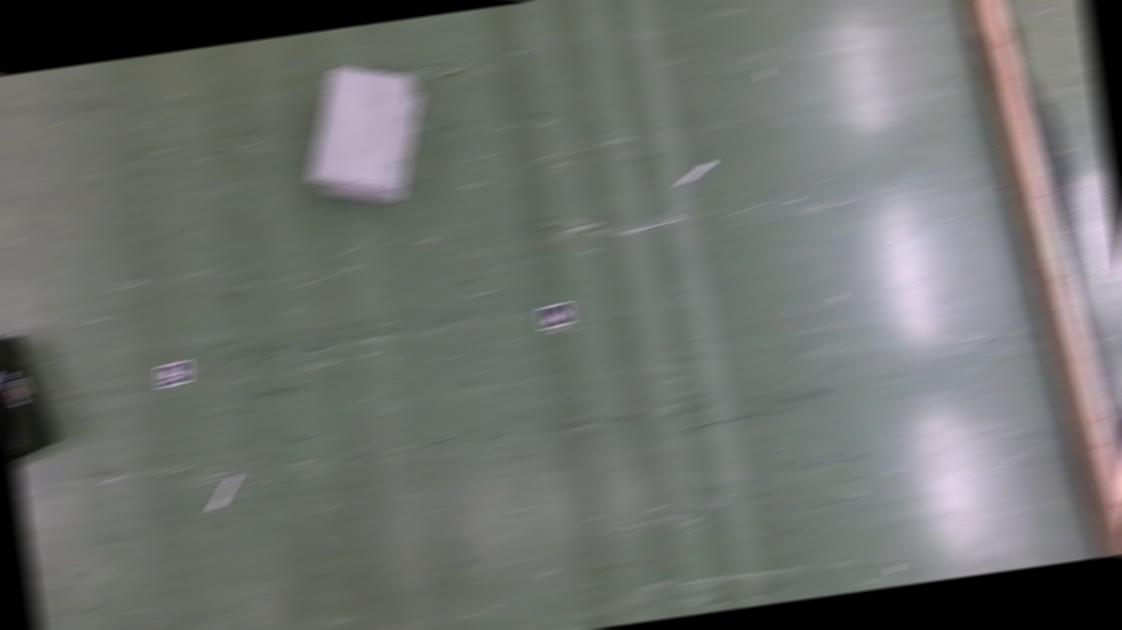probes: (206, 475, 244, 512), (679, 161, 716, 185)
rako: (294, 58, 437, 216), (0, 327, 62, 470)
